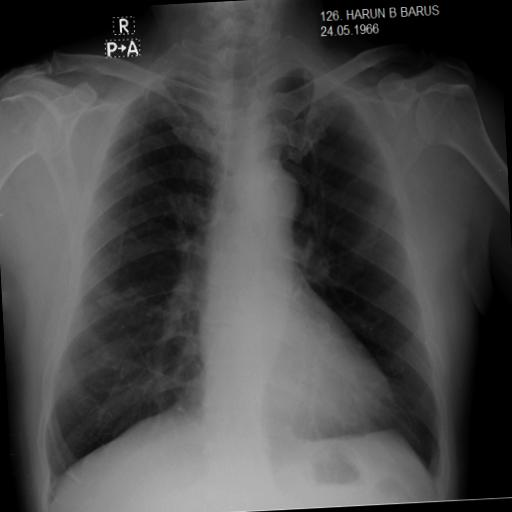kardiomegali: (18, 16, 452, 512)
